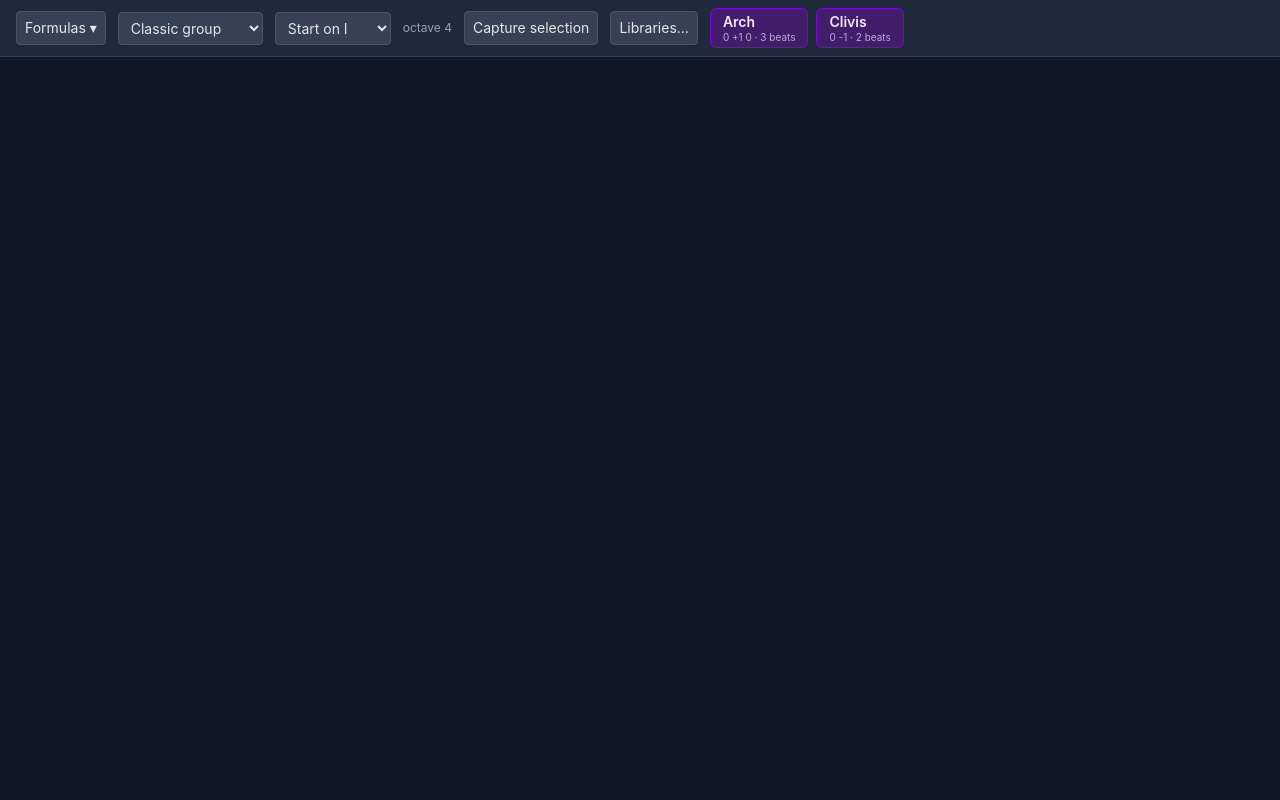
Test: FormulaPalette › captures blocks written in different keys, each in its own
Click the button with test id "formula-capture" at [531, 28], box [464,11,598,45]
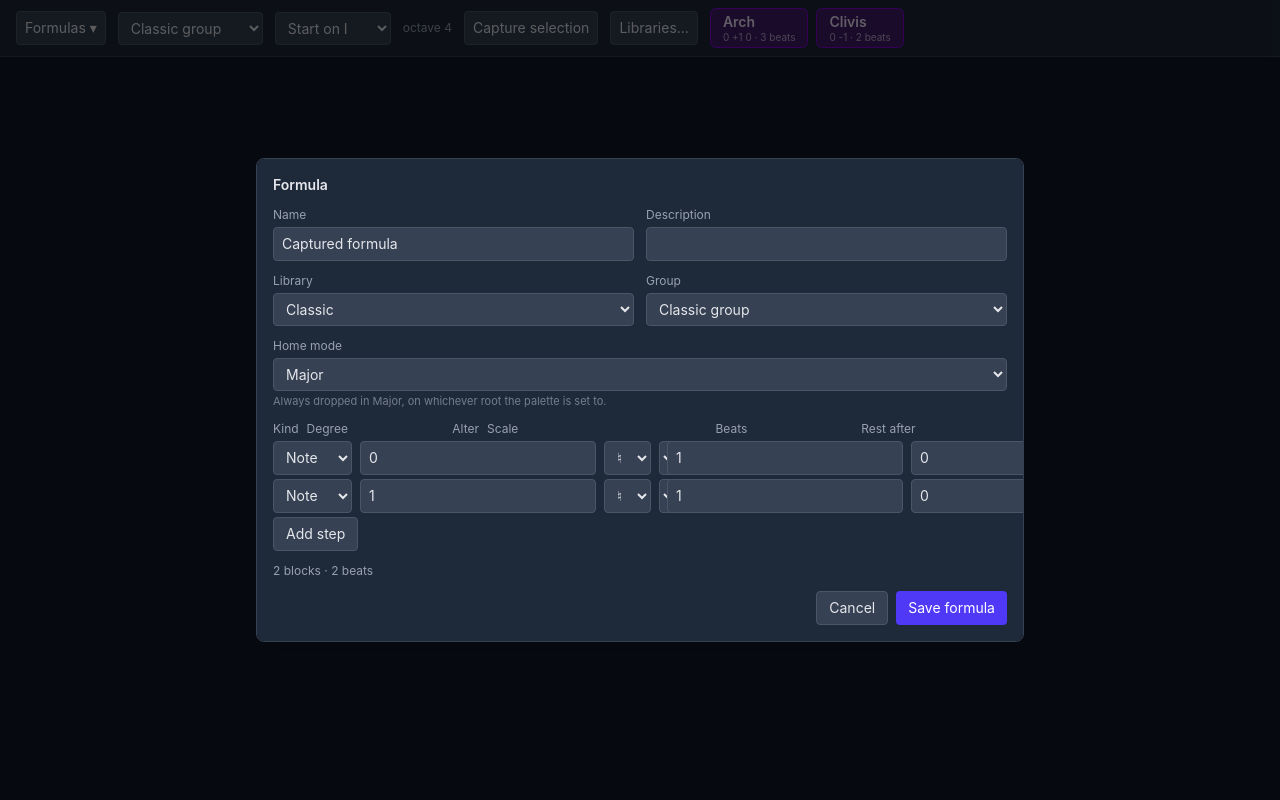
Now the element with test id "formula-editor" is shown
Now the dropdown named "Step 1 scale" shows "— home —", box [659,441,677,475]
Now the dropdown named "Step 2 scale" shows "Minor", box [659,479,677,513]
